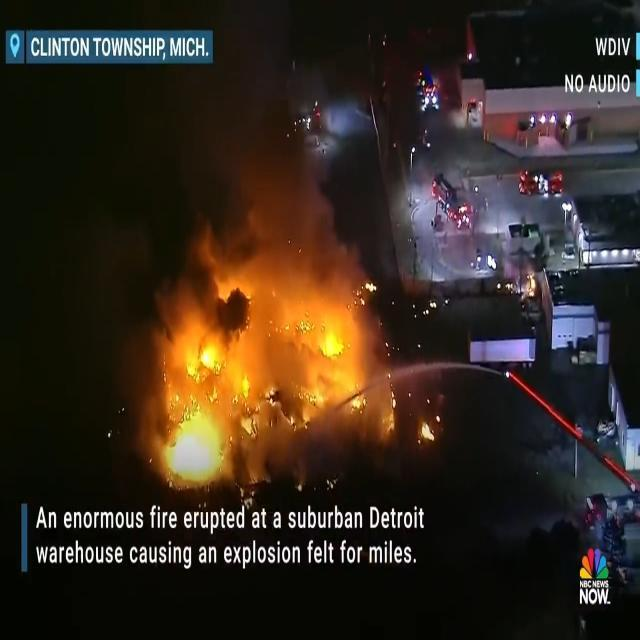fire: (156, 326, 357, 478), (224, 266, 363, 322), (416, 409, 442, 451)
